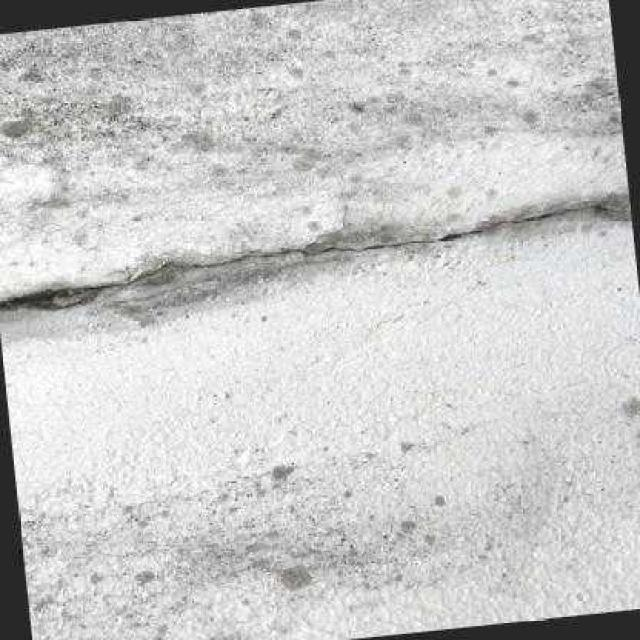D00: (0, 201, 630, 311)
